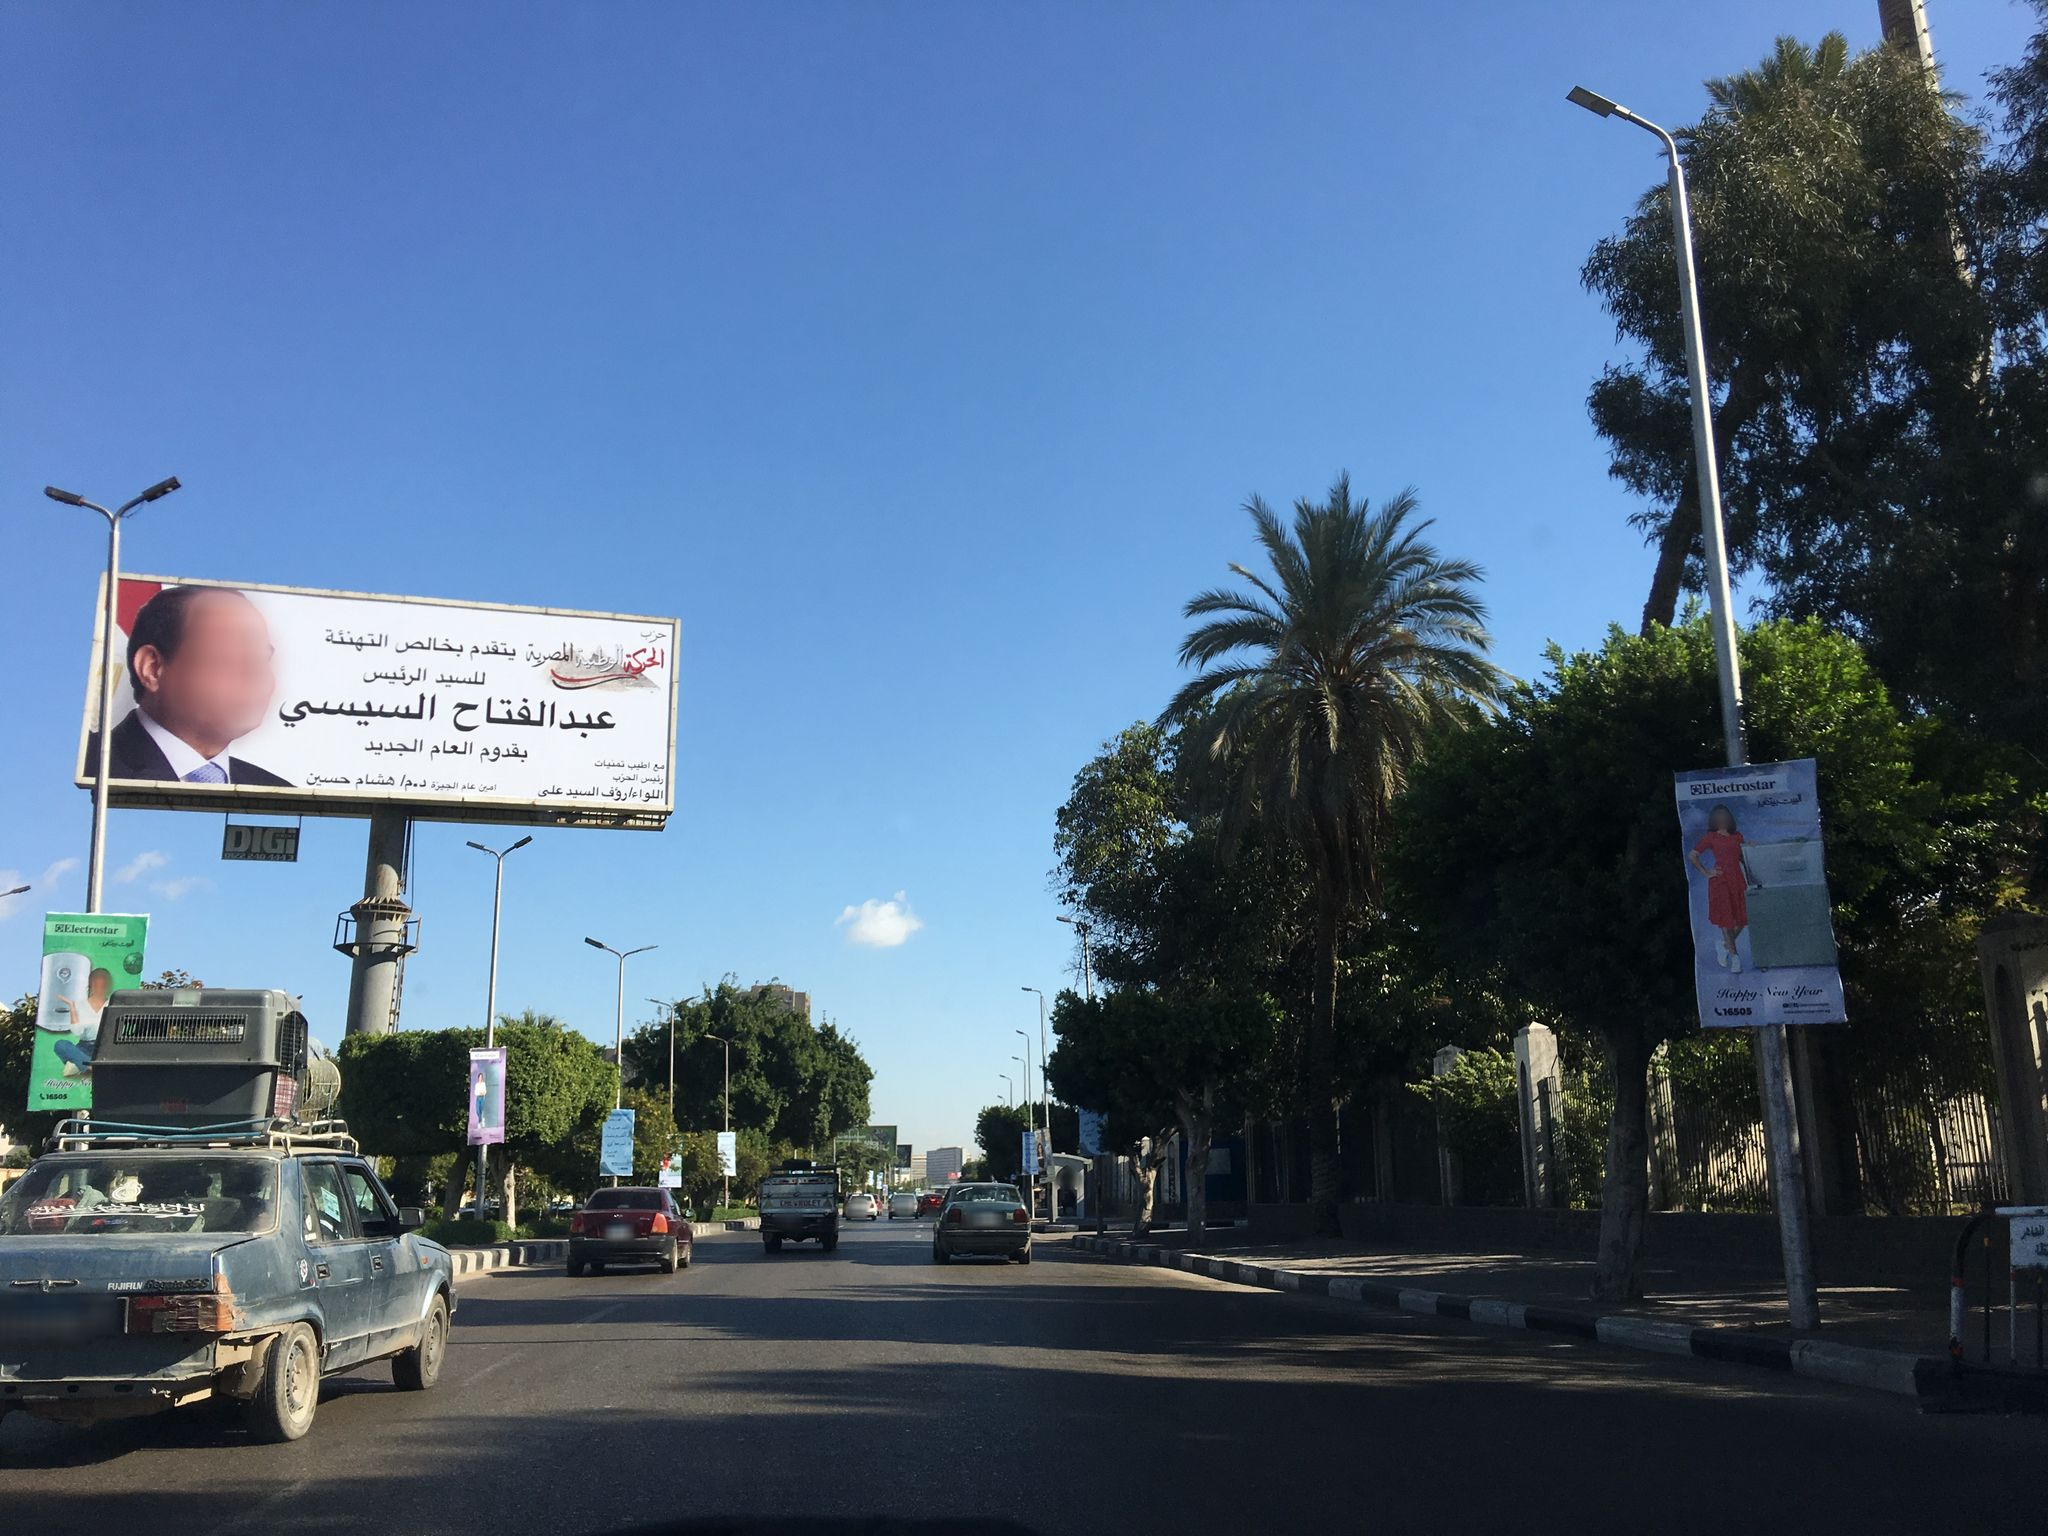car: (0, 1117, 461, 1446), (564, 1187, 693, 1275), (930, 1181, 1032, 1263), (843, 1192, 877, 1221), (887, 1192, 918, 1220)
truck: (755, 1158, 845, 1249)
